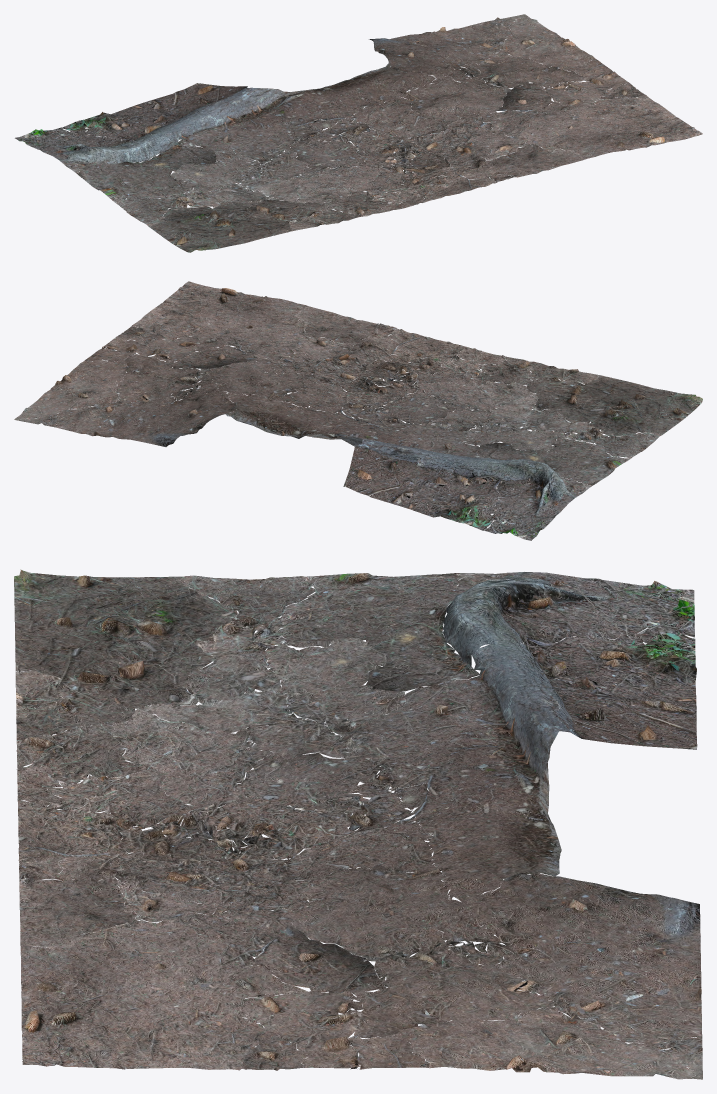
The picture shows the model from 3 angles, top to bottom: view 1: azimuth 30°, elevation 25°; view 2: azimuth 150°, elevation 25°; view 3: azimuth 270°, elevation 25°; orthographic projection. The views are drawn at different scales.
Visible parts, largest first — view 1: Model; view 2: Model; view 3: Model.
Boxes of the visible parts, x1,y1,x2,y2 form: Model: (15,14,702,252); Model: (14,281,702,540); Model: (14,569,702,1079).
Size of the model in its own units: 2.64 by 0.144 by 1.58.
Materials: 3 (3 with a texture image).
